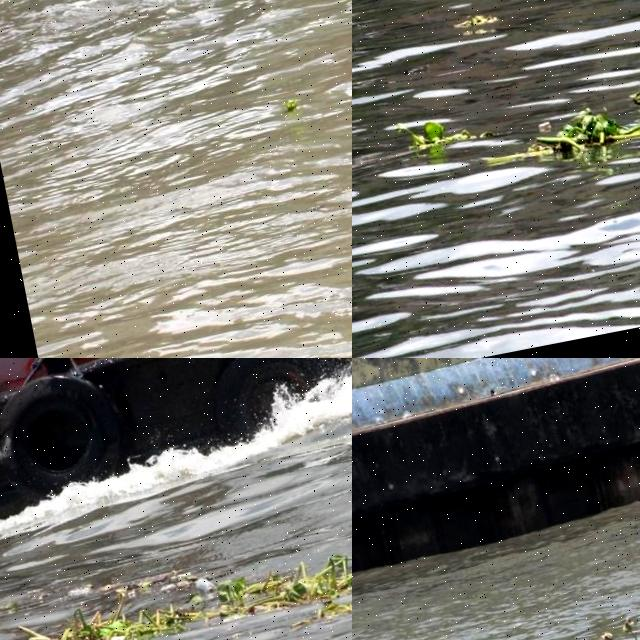water-hyacinth: (205, 529, 353, 616), (1, 573, 193, 640), (512, 91, 640, 167), (392, 104, 484, 166)
